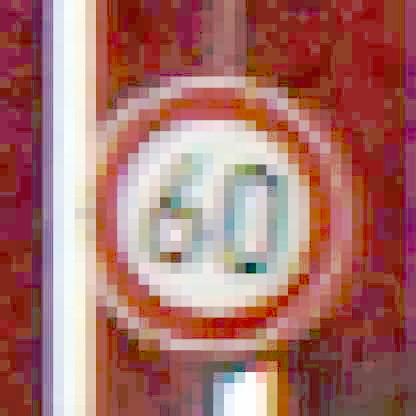Speed Limit -60-: (79, 77, 349, 355)
